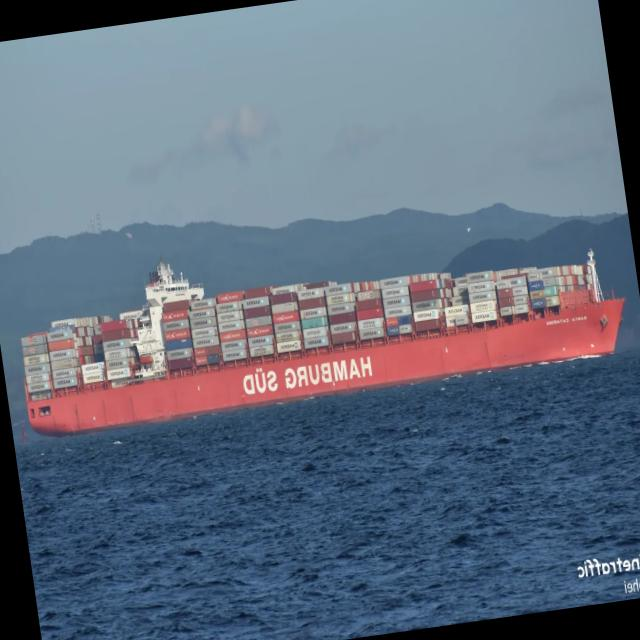Cargo: (22, 253, 625, 435)
